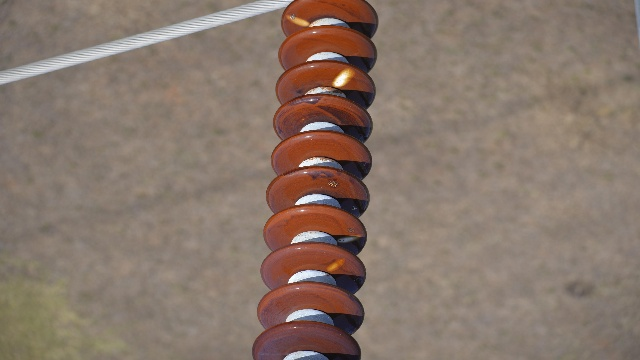insulator_unspecified: (251, 0, 380, 359)
pollution_flashover_local: (333, 66, 356, 90), (335, 231, 362, 245), (280, 11, 306, 25), (324, 260, 345, 275)
